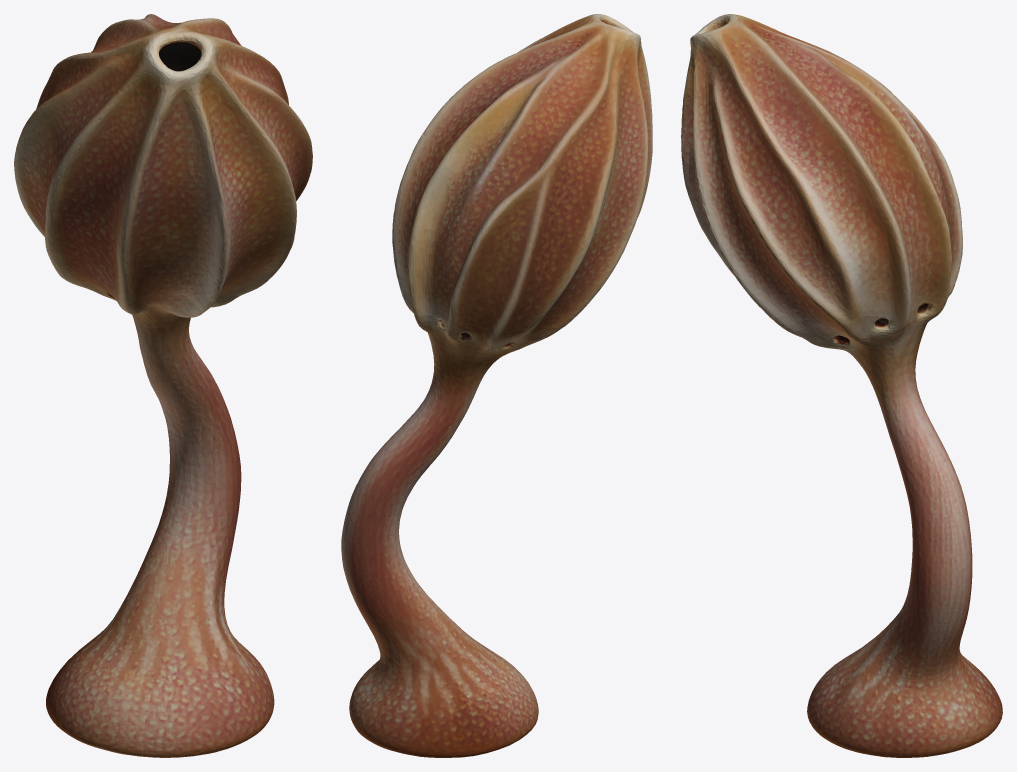
The picture shows the model from 3 angles, left to right: view 1: azimuth 30°, elevation 25°; view 2: azimuth 150°, elevation 25°; view 3: azimuth 270°, elevation 25°; orthographic projection. The views are drawn at different scales.
Visible parts, largest first — view 1: world; view 2: world; view 3: world.
Boxes of the visible parts, bbox=[...] form: world: bbox=[14, 14, 312, 757]; world: bbox=[341, 14, 652, 757]; world: bbox=[681, 14, 1002, 757].
Size of the model in its own units: 0.362 by 0.9993 by 0.4366.
1 material, 1 textured.
